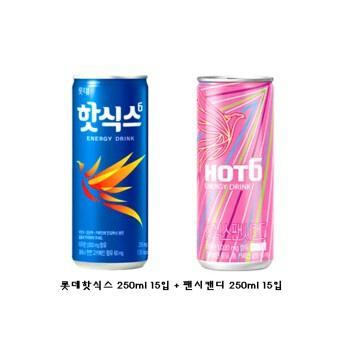hotsix_org: (69, 75, 155, 271)
